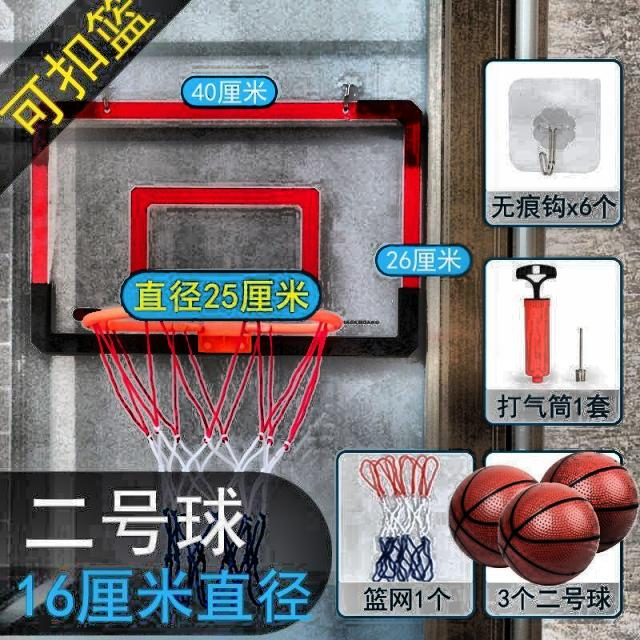board: (501, 483, 602, 586), (547, 451, 639, 554), (450, 464, 535, 569)
